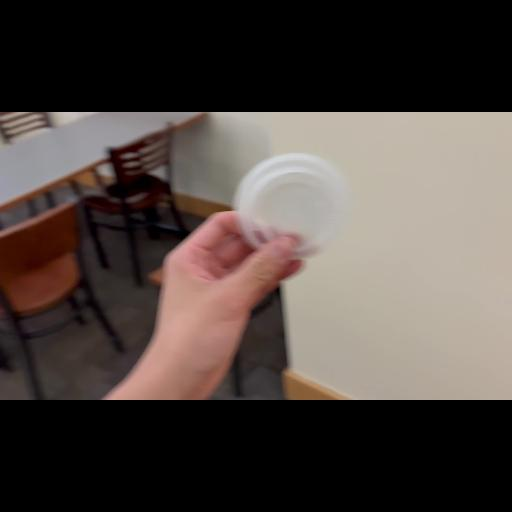lp_cup_lids: (218, 154, 362, 262)
